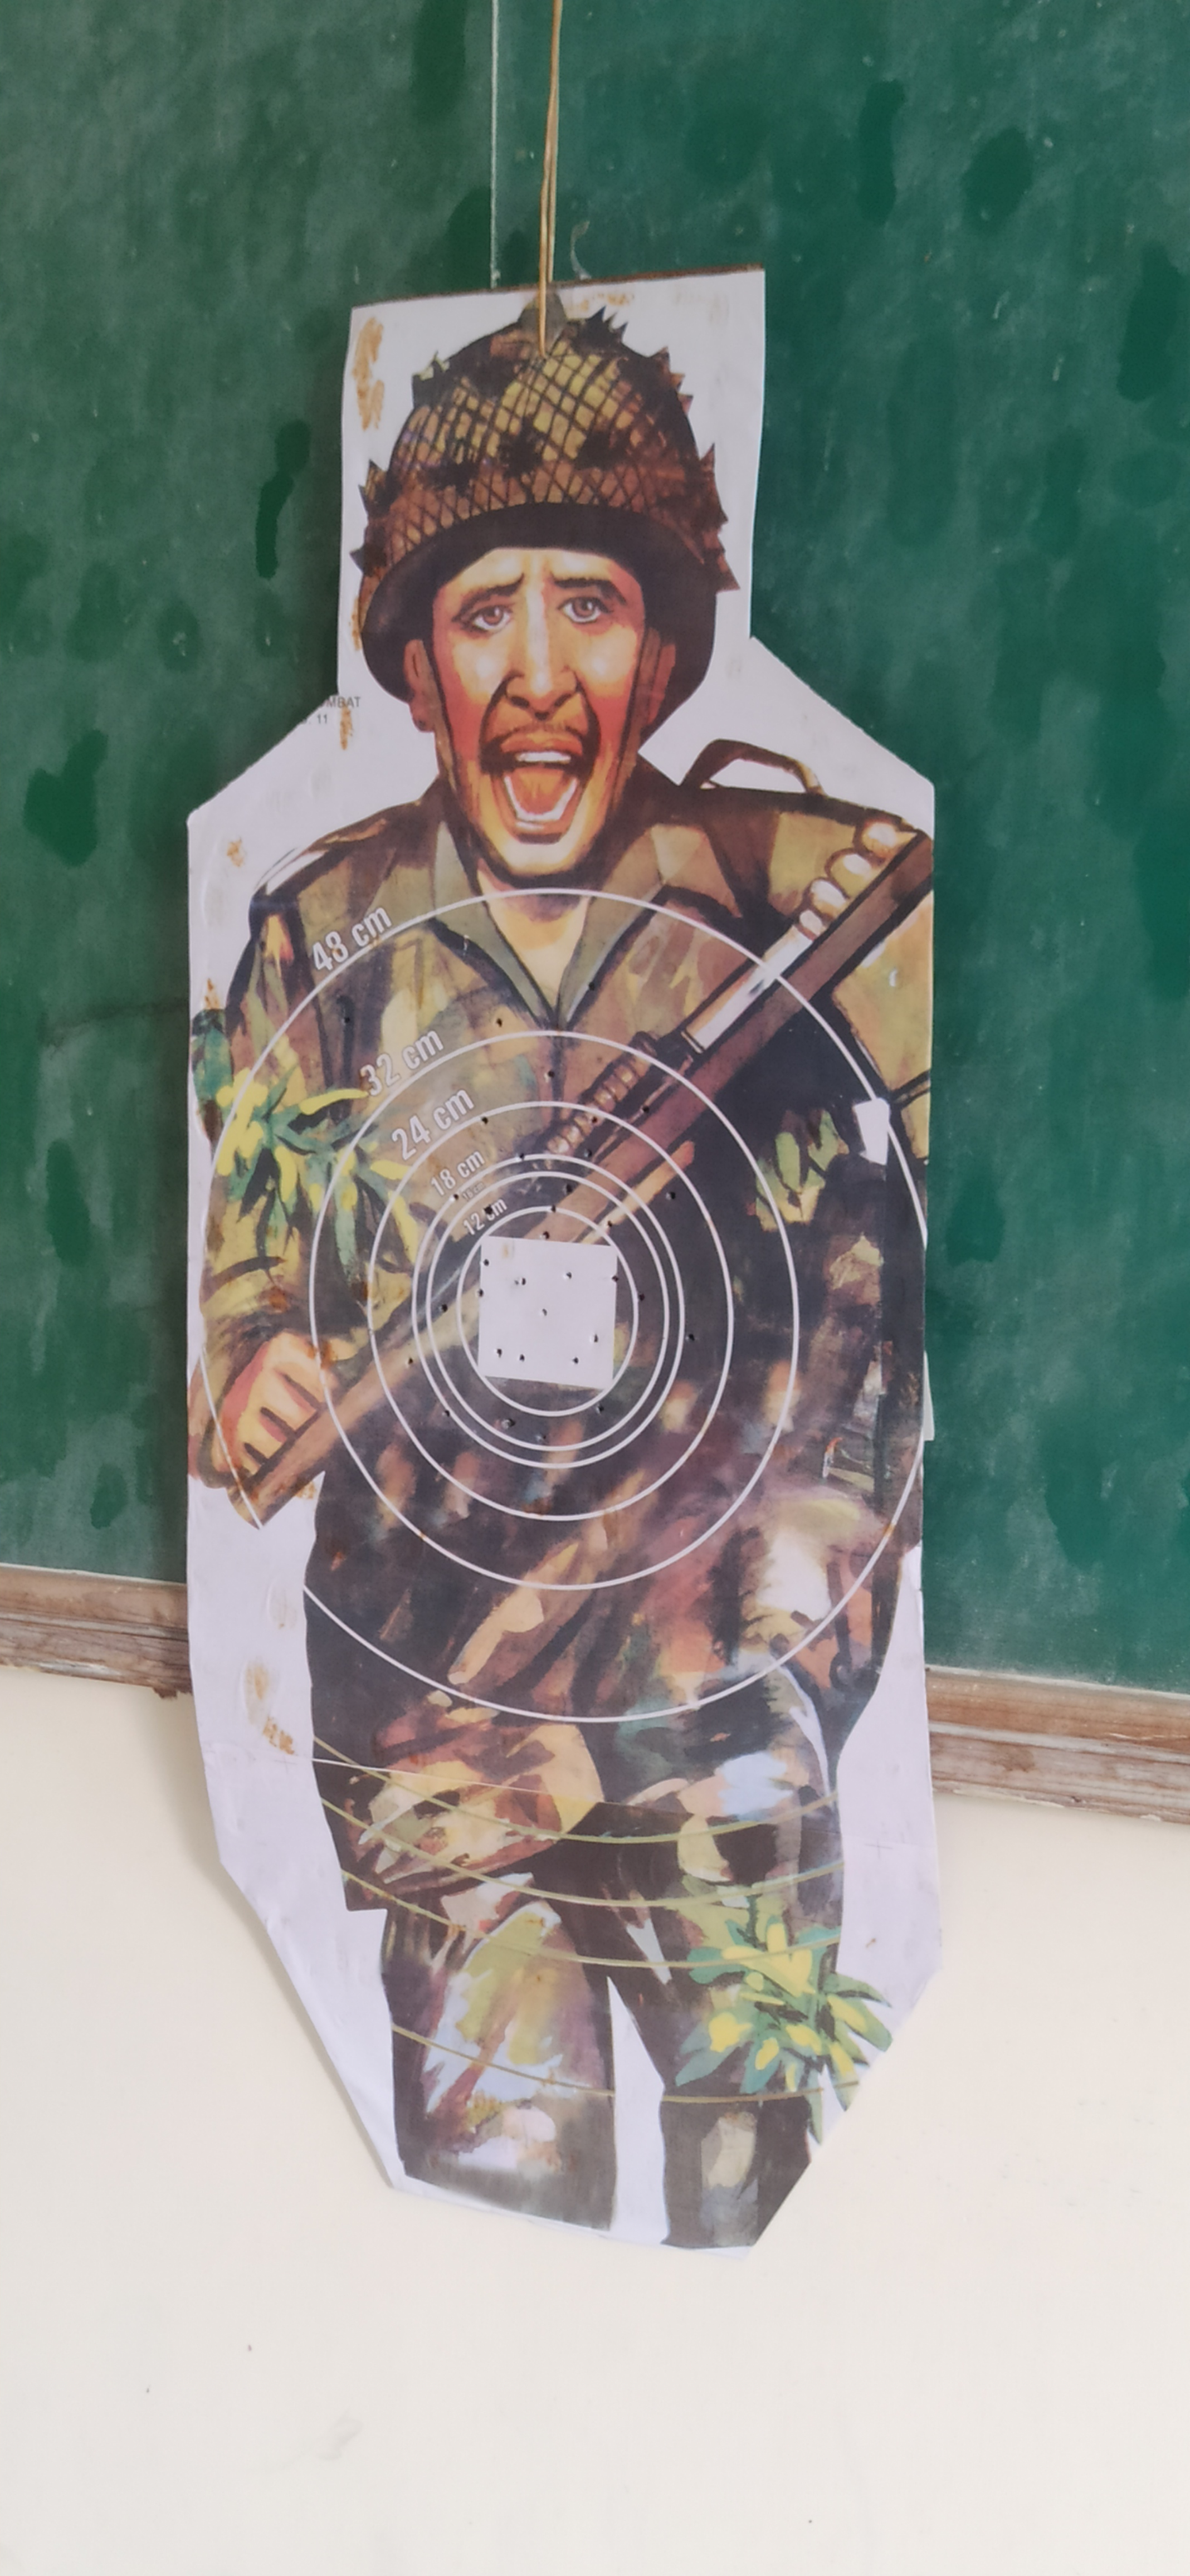bullet hit: (500, 1414, 518, 1431), (666, 1188, 682, 1204), (638, 1104, 656, 1119), (585, 977, 598, 997), (560, 1181, 575, 1198), (542, 1069, 560, 1083), (583, 1145, 597, 1163), (340, 1015, 355, 1030), (482, 1203, 496, 1217), (493, 1015, 510, 1028), (536, 1431, 552, 1444), (592, 1403, 610, 1414), (537, 1306, 552, 1319), (685, 1331, 699, 1345), (439, 1406, 452, 1421), (439, 1301, 450, 1318), (482, 1257, 493, 1273), (569, 1355, 585, 1367), (403, 1355, 416, 1368), (516, 1150, 529, 1163), (636, 1291, 649, 1304), (518, 1275, 531, 1288), (493, 1345, 505, 1360), (475, 1288, 487, 1303), (450, 1191, 462, 1204), (605, 1219, 618, 1230), (542, 1229, 554, 1242), (514, 1352, 528, 1364), (564, 1267, 572, 1285), (590, 1114, 602, 1125), (610, 1273, 621, 1285), (549, 1204, 560, 1216), (480, 1115, 493, 1125), (592, 1332, 602, 1345)
white box: (482, 1234, 620, 1393)
